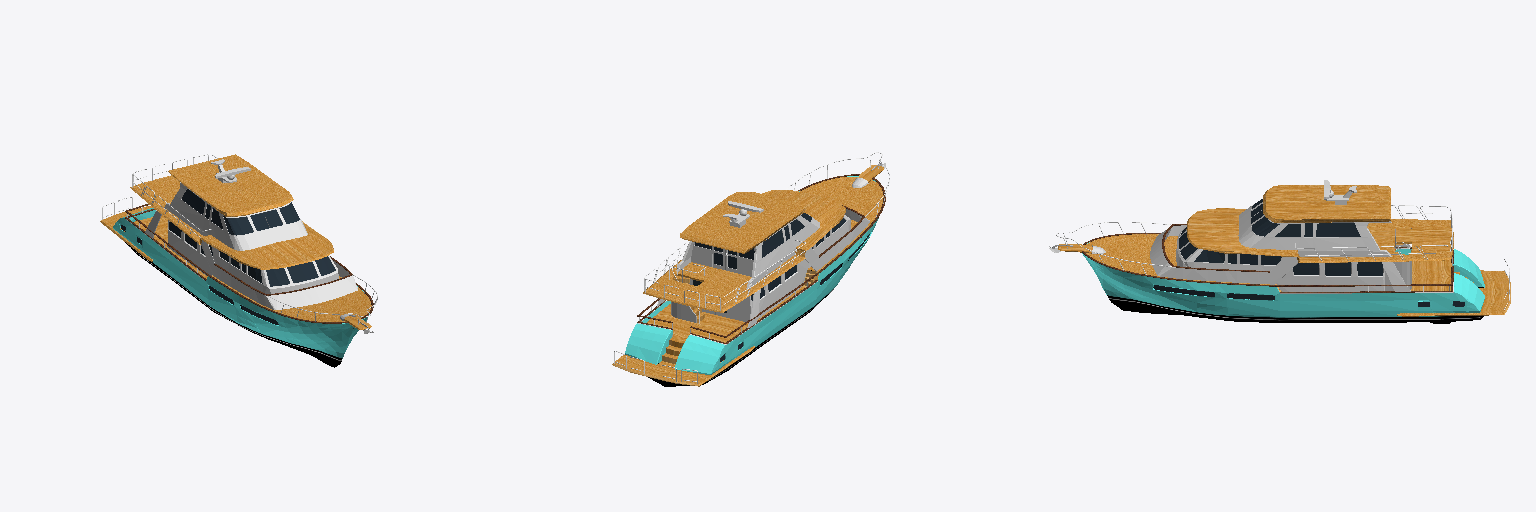
3 renders of one model, left to right at view 1: azimuth 30°, elevation 25°; view 2: azimuth 150°, elevation 25°; view 3: azimuth 270°, elevation 25°, orthographic.
Visible parts, largest first — view 1: Hull_Plane, Cabin_Cube, FloorTop_Cube.003, FloorSecond_Cube.002, CabinTop_Cube.001, FloorFirst_Plane.002, TopCabinWindows_Cube.005, Cabin.Windows_Cube.004, DarkWoodTrim_BezierCurve.027; view 2: Hull_Plane, FloorSecond_Cube.002, FloorTop_Cube.003, Cabin_Cube, HullBottom_Plane.003, FloorFirst_Plane.002, BackWalls_Plane.014, CabinTop_Cube.001, Platform_Plane.001, DarkWoodTrim_BezierCurve.027, TopCabinWindows_Cube.005, ChromeHandRailsSide_BezierCurve.035; view 3: Hull_Plane, FloorSecond_Cube.002, Cabin_Cube, FloorTop_Cube.003, CabinTop_Cube.001, FloorFirst_Plane.002, Cabin.Windows_Cube.004, TopCabinWindows_Cube.005, Platform_Plane.001, DarkWoodTrim_BezierCurve.027, HullBottom_Plane.003, WindowsHull_Plane.006 (+1 smaller).
Boxes of the visible parts, box(x1,y1,x2,y2) form: Hull_Plane: box(113, 208, 369, 367); Cabin_Cube: box(145, 210, 357, 320); FloorTop_Cube.003: box(168, 154, 293, 216); FloorSecond_Cube.002: box(130, 175, 333, 269); CabinTop_Cube.001: box(164, 182, 307, 250); FloorFirst_Plane.002: box(212, 275, 371, 321); TopCabinWindows_Cube.005: box(182, 189, 299, 235); Cabin.Windows_Cube.004: box(169, 222, 335, 286); DarkWoodTrim_BezierCurve.027: box(125, 204, 373, 323); Hull_Plane: box(625, 176, 878, 386); FloorSecond_Cube.002: box(643, 190, 845, 312); FloorTop_Cube.003: box(680, 192, 805, 253); Cabin_Cube: box(657, 178, 869, 327); HullBottom_Plane.003: box(647, 270, 818, 363); FloorFirst_Plane.002: box(800, 177, 883, 271); BackWalls_Plane.014: box(685, 242, 754, 321); CabinTop_Cube.001: box(676, 214, 819, 288); Platform_Plane.001: box(612, 346, 754, 386); DarkWoodTrim_BezierCurve.027: box(637, 174, 885, 343); TopCabinWindows_Cube.005: box(762, 213, 811, 257); ChromeHandRailsSide_BezierCurve.035: box(644, 152, 889, 304); Hull_Plane: box(1082, 242, 1484, 322); FloorSecond_Cube.002: box(1186, 208, 1453, 262); Cabin_Cube: box(1092, 225, 1410, 291); FloorTop_Cube.003: box(1263, 185, 1390, 222); CabinTop_Cube.001: box(1238, 202, 1391, 256); FloorFirst_Plane.002: box(1086, 234, 1269, 284); Cabin.Windows_Cube.004: box(1179, 227, 1382, 275); TopCabinWindows_Cube.005: box(1251, 199, 1360, 236); Platform_Plane.001: box(1397, 270, 1510, 316); DarkWoodTrim_BezierCurve.027: box(1082, 224, 1453, 292); HullBottom_Plane.003: box(1275, 254, 1473, 291); WindowsHull_Plane.006: box(1153, 285, 1464, 306).
Bounding box in the file's own units: 5.67 × 7.28 × 22.48.
9 materials, 3 textured.